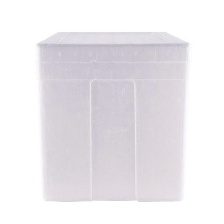foam_box: (29, 24, 193, 206)
